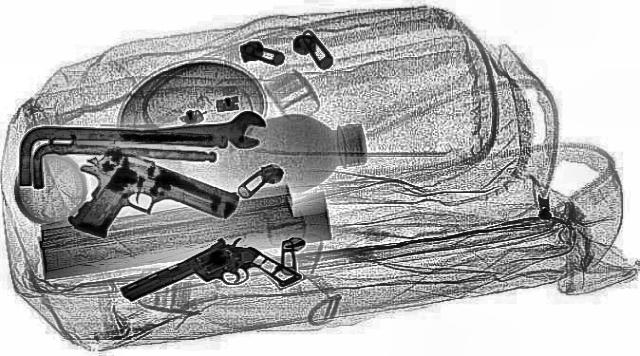Gun: (15, 143, 253, 261), (108, 233, 308, 333)
Wrench: (42, 110, 270, 160)
